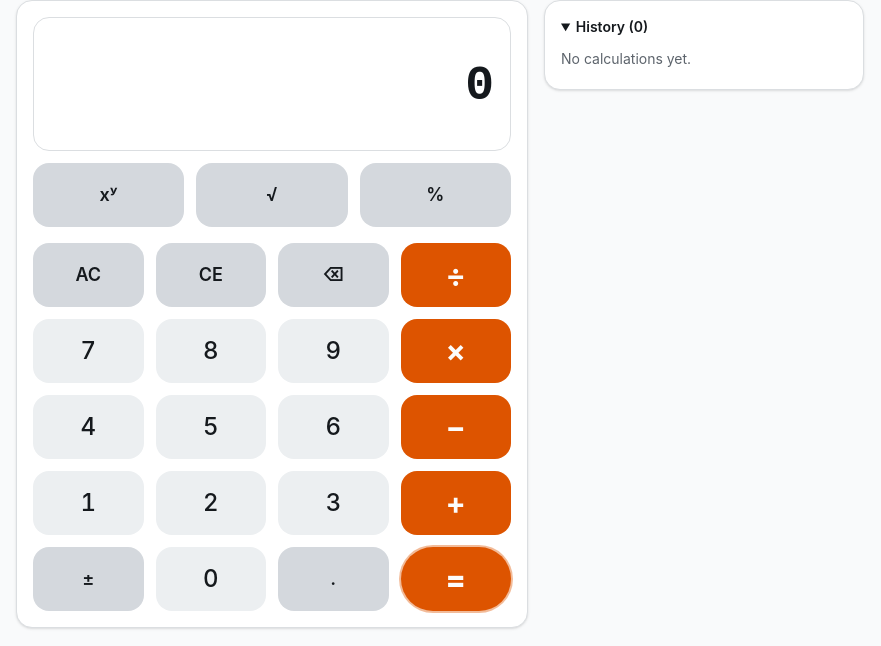
Test case: Calculator › locks every key but AC while a calculation is in flight, and AC gets out of it
The width and height of the screenshot is (881, 646).
Click the button "1" at [88, 503], box [33,471,144,535]
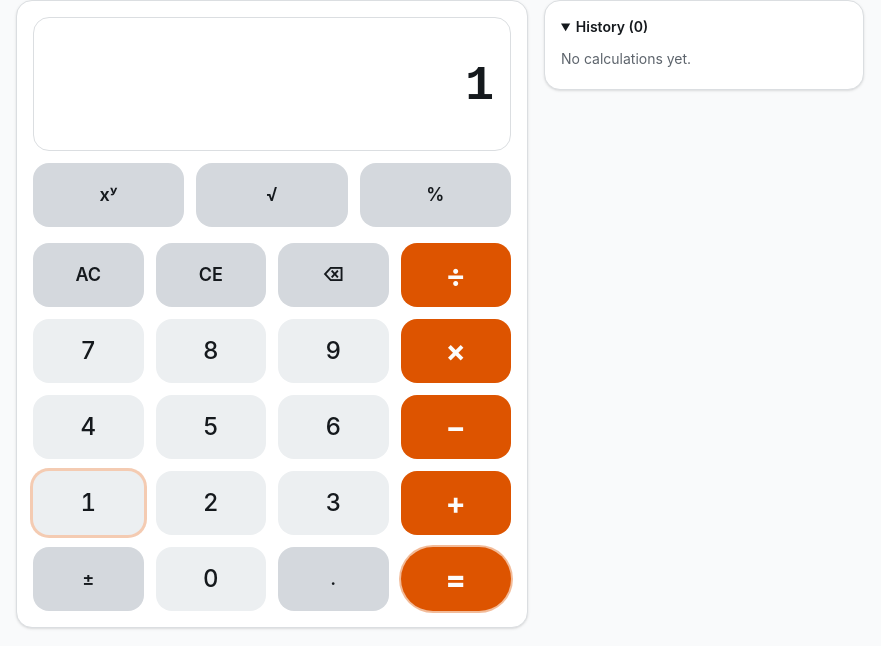
Click the button named "add" at [456, 503], box [400,471,511,535]
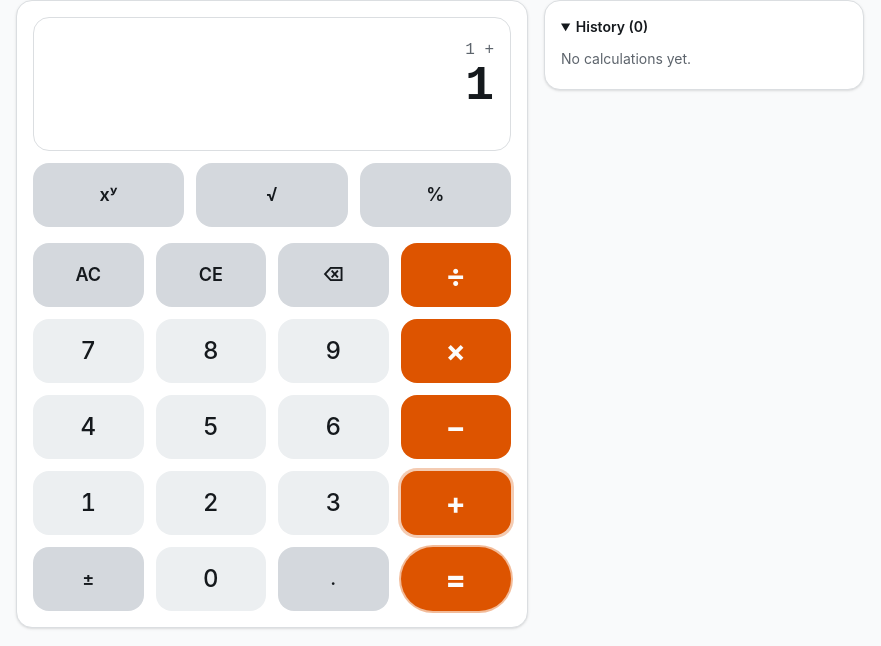
Click the button "1" at [88, 503], box [33,471,144,535]
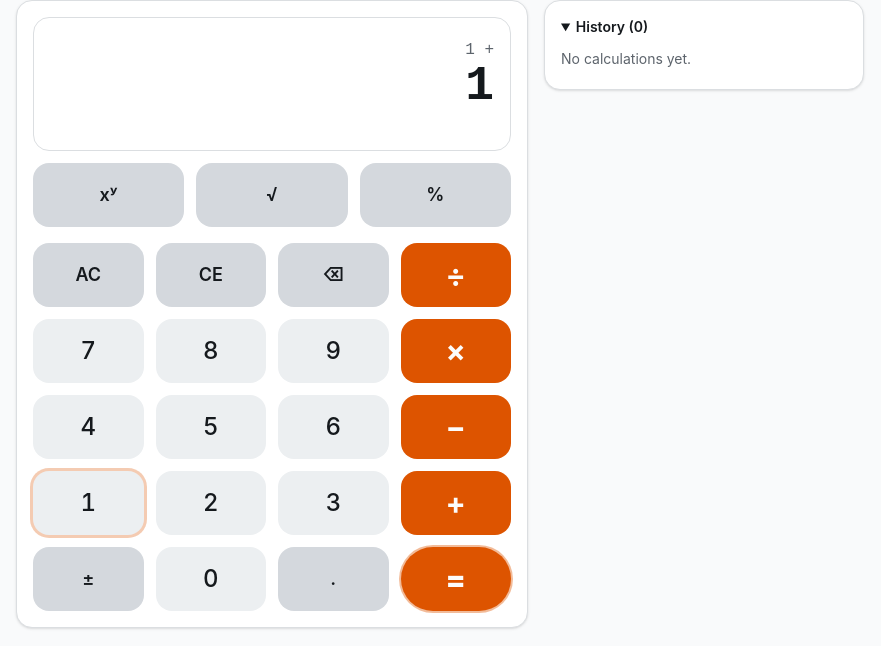
Click the button named "equals" at [456, 579], box [400,547,511,611]
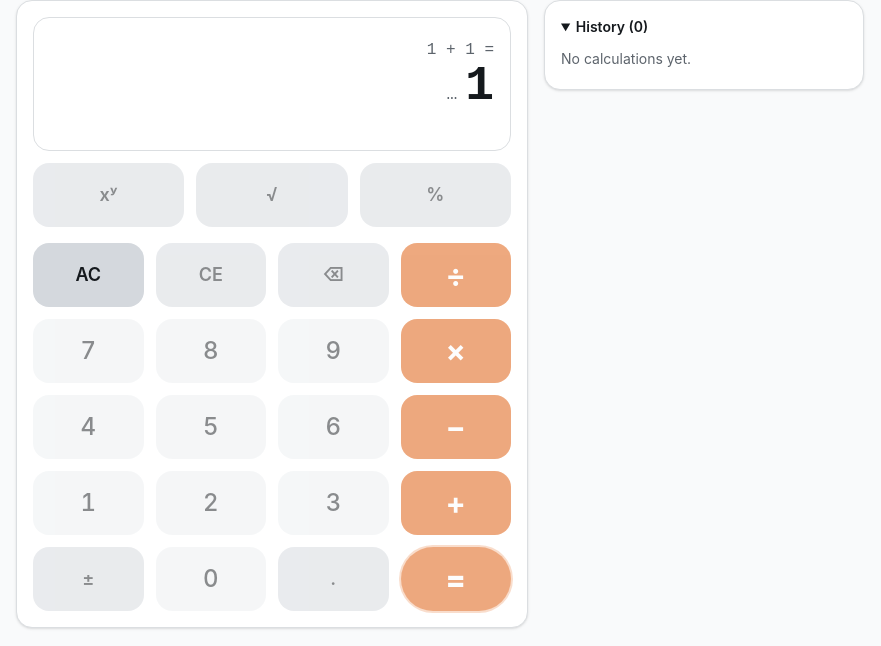
expect the button "7" is disabled: met, box [33,319,144,383]
expect the button named "equals" is disabled: met, box [400,547,511,611]
expect the button named "square root" is disabled: met, box [196,163,348,227]
Click the button with aria-label "clear all" at [88, 275], box [33,243,144,307]
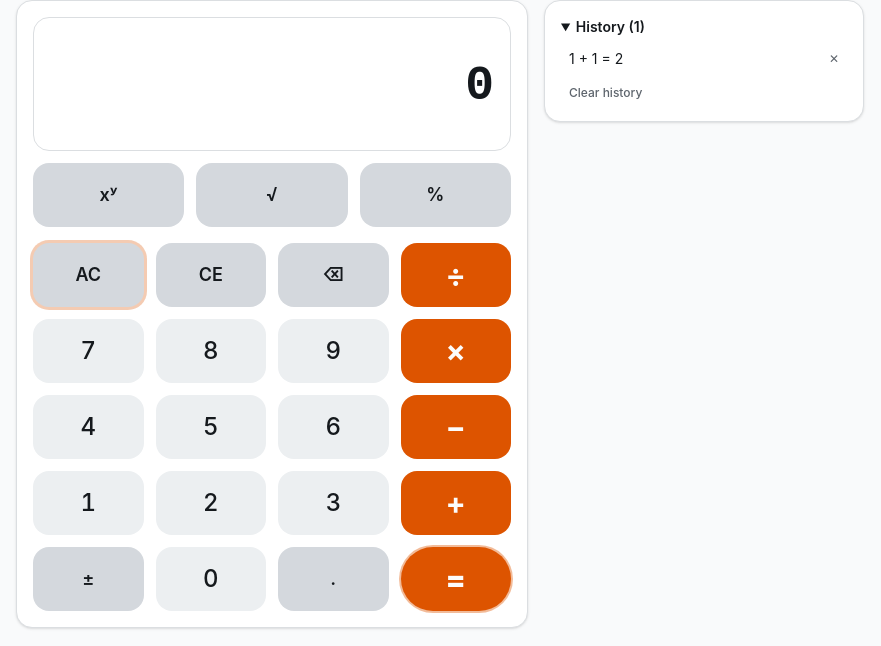
expect the text "0" is shown: met, box [465,62,494,110]
expect the button "7" is enabled: met, box [33,319,144,383]
expect the text "…" is gone: met
